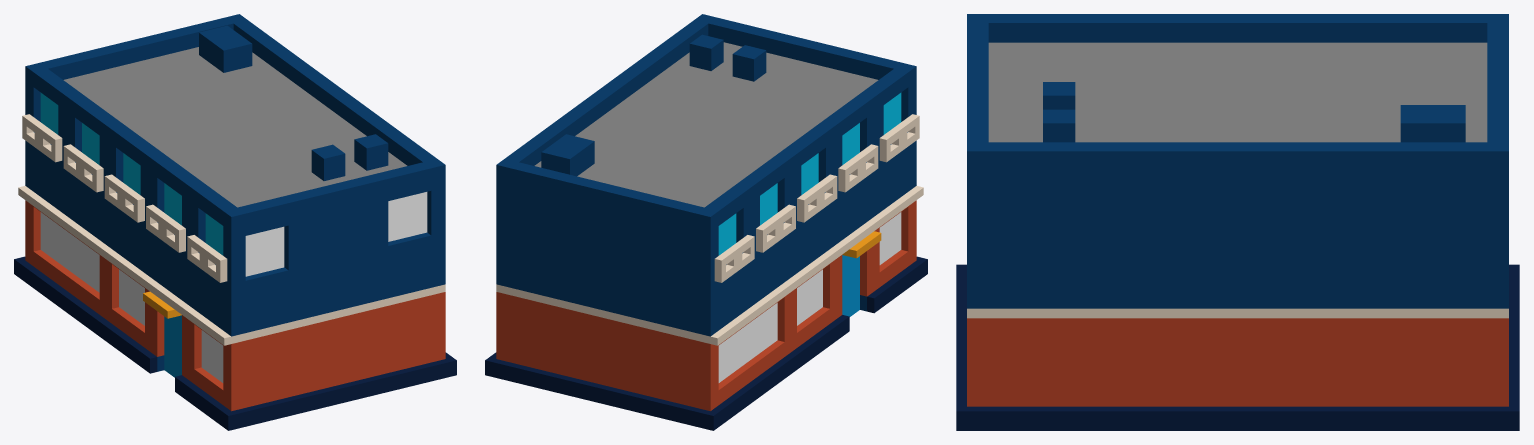
The model's file is House01.obj.
3 renders of one model, left to right at view 1: azimuth 30°, elevation 25°; view 2: azimuth 150°, elevation 25°; view 3: azimuth 270°, elevation 25°, orthographic. The views are drawn at different scales.
Bounding box in the file's own units: 3.3 × 2.9 × 5.2.
Materials: 1 (1 with a texture image).
